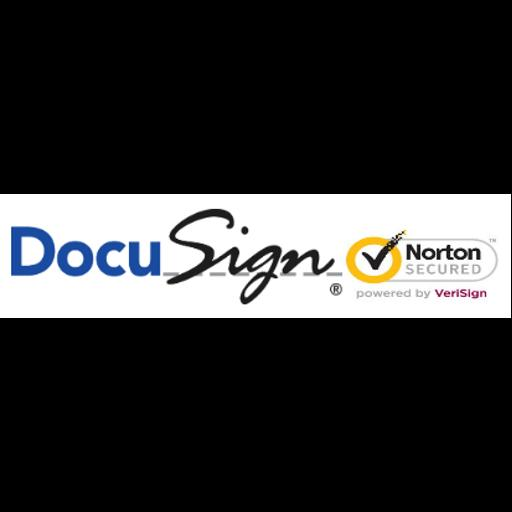DocuSign: (0, 194, 511, 318)
